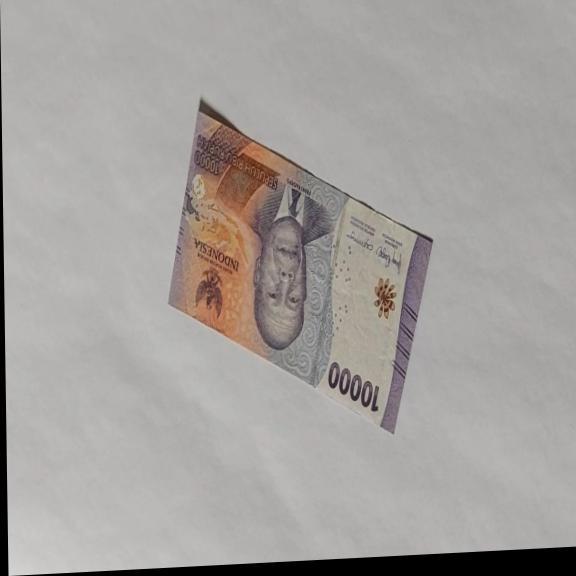Kertas: (164, 84, 437, 448), (327, 358, 381, 416)
